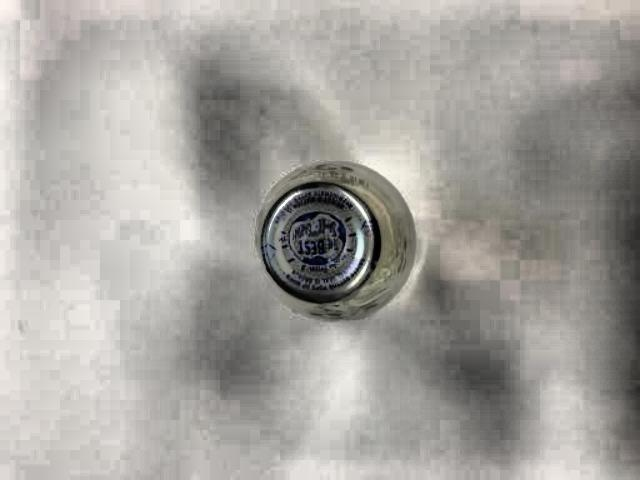Almennt: (247, 148, 431, 331)
